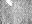person: (6, 1, 11, 6)
